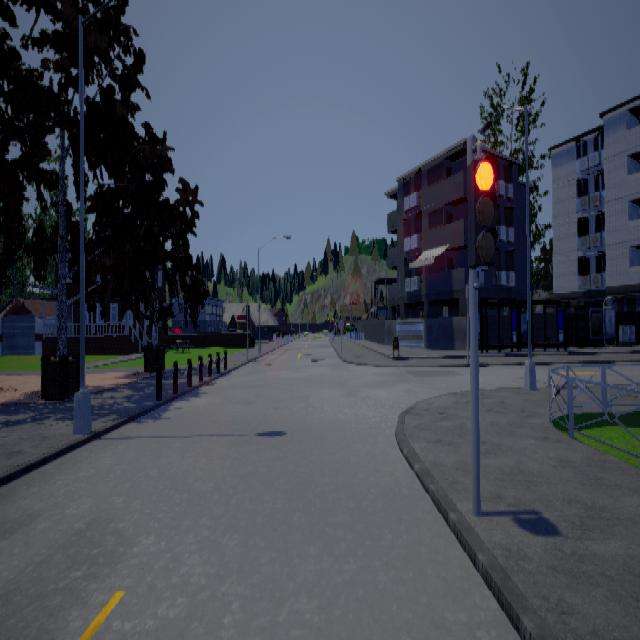red_light: (466, 138, 497, 288)
